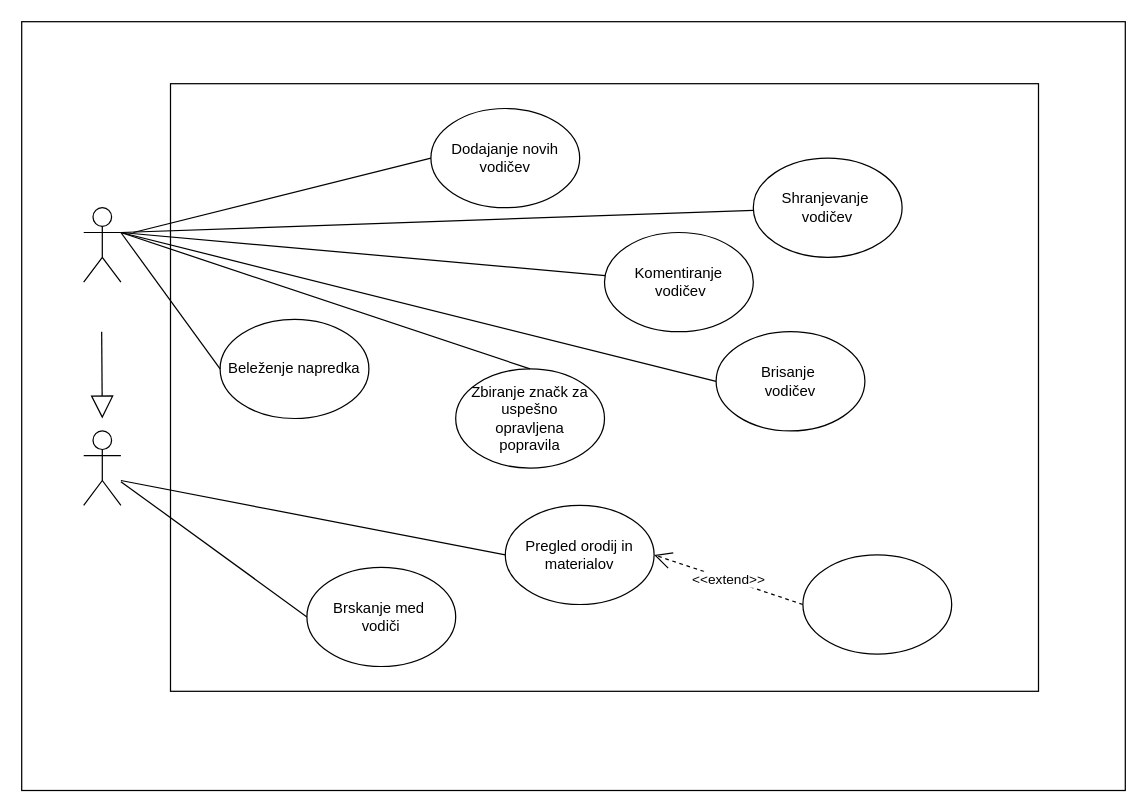
Image size: 1147x812. Some labels were removed from this diagram. The shapes that lost their labels are listed below. From the top down, each one's centre as x and y in pixels, then its label:
the point at 101,244: Registriran uporabnik
the point at 101,467: Neregistriran uporabnik
the point at 877,604: Pregled priporočil za nakup materiala in orodij
